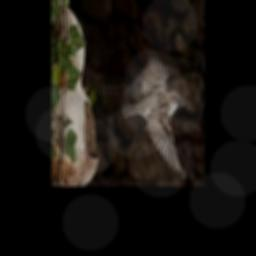Sparrow: (123, 56, 187, 179)
